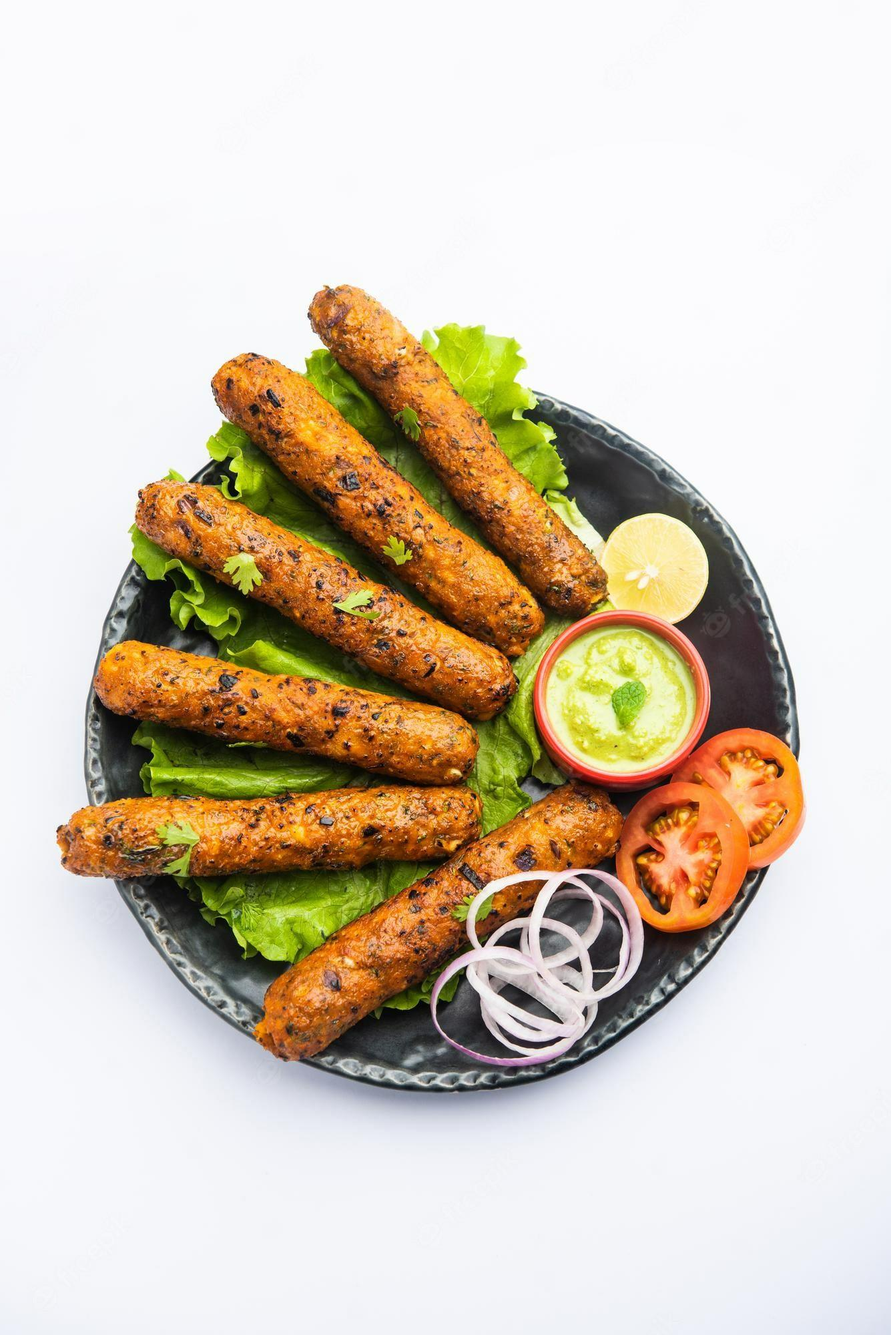GreenChutney: (541, 628, 700, 775)
Kebab: (251, 781, 625, 1061), (211, 353, 545, 657), (308, 286, 609, 622), (135, 480, 518, 719), (92, 641, 479, 786), (56, 787, 483, 879)
